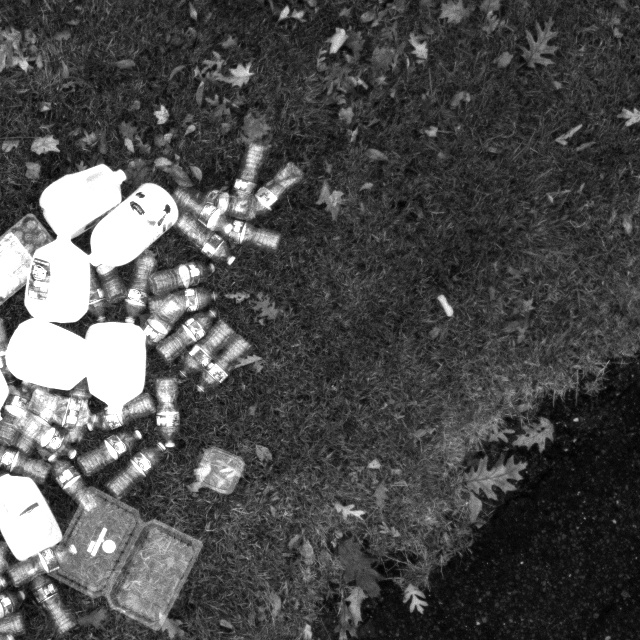bottle: (25, 562, 83, 640), (153, 304, 221, 365), (104, 437, 169, 500), (193, 330, 254, 395), (176, 316, 236, 381), (76, 424, 147, 478), (169, 179, 234, 237), (83, 388, 159, 437), (84, 387, 159, 436), (172, 209, 238, 264), (244, 162, 303, 223), (15, 408, 82, 461), (25, 382, 101, 426), (205, 209, 281, 252), (49, 454, 101, 516), (141, 290, 194, 349), (7, 538, 69, 588), (120, 253, 159, 326), (74, 254, 113, 325), (146, 283, 222, 319), (195, 180, 261, 221), (231, 139, 269, 208), (89, 245, 131, 306), (150, 259, 219, 296), (149, 373, 181, 449), (0, 439, 55, 483)
can: (83, 182, 184, 272), (36, 159, 133, 242), (84, 316, 151, 430), (3, 312, 94, 391), (21, 226, 94, 323), (0, 469, 65, 561)
container: (43, 479, 208, 636), (0, 211, 61, 319), (193, 442, 243, 502)
